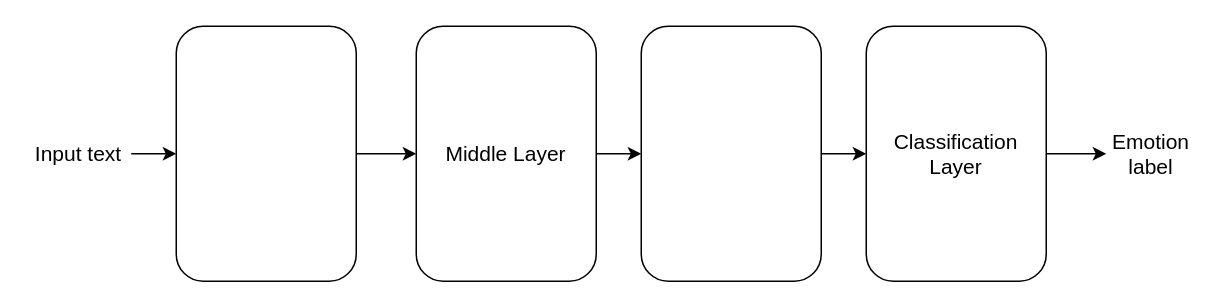
This 1215x308 diagram has some shape labels left out. Here are the shapes that lost their labels. From the top down, the box of each, then its label:
(175, 25, 356, 281): Pre-trained embeddings (Word2Vec, ELMo, or BERT)
(640, 25, 821, 281): Dropout Layer
